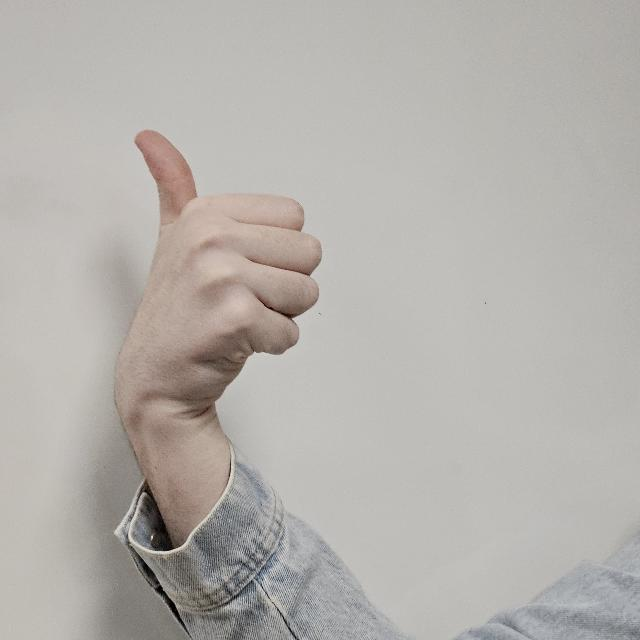Start: (112, 114, 324, 398)
